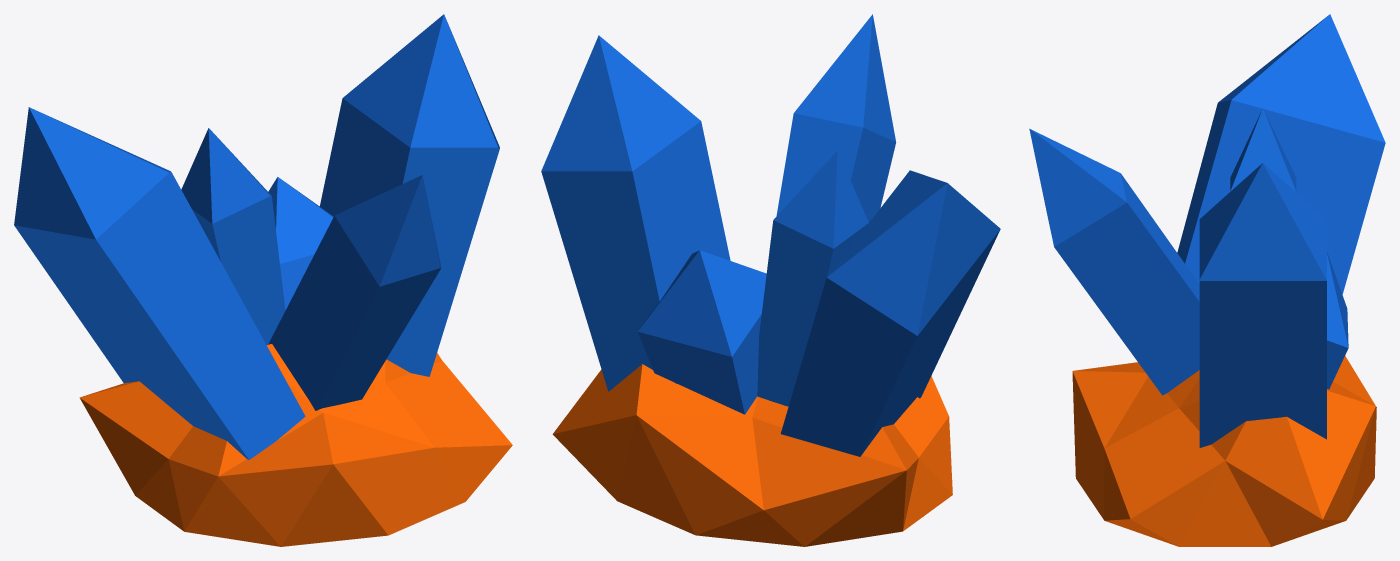
The model's file is MineResource.fbx.
3 renders of one model, left to right at view 1: azimuth 30°, elevation 25°; view 2: azimuth 150°, elevation 25°; view 3: azimuth 270°, elevation 25°, orthographic. The views are drawn at different scales.
Parts seen in each view (by area): view 1: Crystal.003, Mund, Crystal, Crystal.002, Crystal.001, Crystal.004; view 2: Mund, Crystal, Crystal.003, Crystal.004, Crystal.001, Crystal.002; view 3: Mund, Crystal, Crystal.003, Crystal.002, Crystal.001, Crystal.004.
Part boxes in pixels (box(x1,y1,x2,y2)): Crystal.003: box(14, 107, 305, 459); Mund: box(79, 344, 512, 546); Crystal: box(319, 14, 499, 376); Crystal.002: box(269, 175, 441, 410); Crystal.001: box(181, 128, 285, 344); Crystal.004: box(268, 177, 333, 310); Mund: box(552, 364, 952, 546); Crystal: box(541, 35, 730, 391); Crystal.003: box(780, 170, 1000, 456); Crystal.004: box(638, 250, 766, 414); Crystal.001: box(757, 151, 868, 406); Crystal.002: box(776, 14, 896, 222); Mund: box(1072, 356, 1376, 546); Crystal: box(1199, 163, 1326, 447); Crystal.003: box(1177, 14, 1385, 294); Crystal.002: box(1029, 128, 1199, 395); Crystal.001: box(1230, 108, 1296, 191); Crystal.004: box(1327, 252, 1348, 389).
Size of the model in its own units: 377 by 371 by 308.
